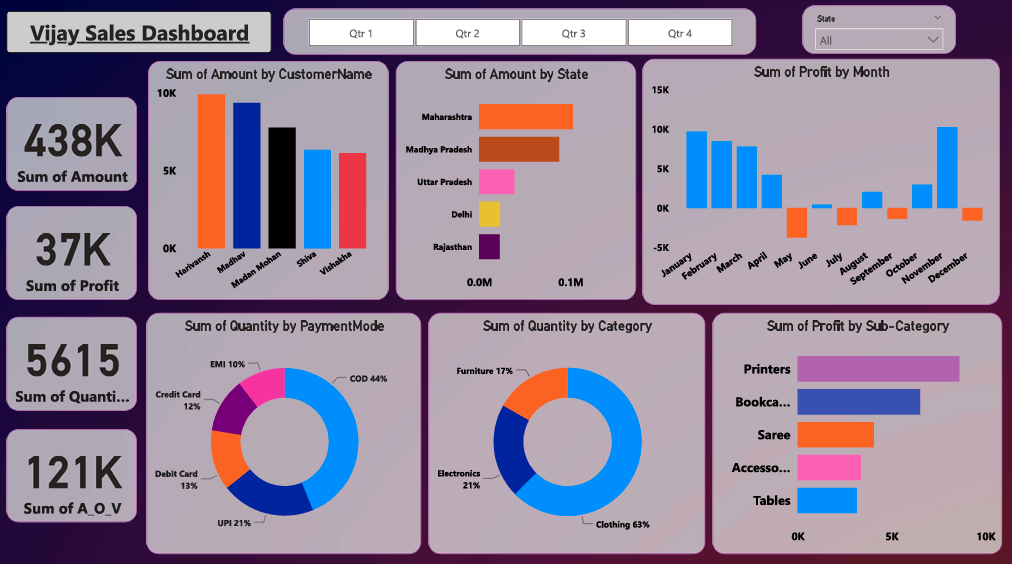

What the dashboard file says about the page in this screenshot:
{"tool":"powerbi","page":{"name":"Page 1","canvas":[1280,720],"ordinal":0},"visuals":[{"type":"textbox","box":[12.8,14.2,333.1,52.4],"z":0},{"type":"clusteredColumnChart","fields":{"Category":["Orders.Order Date.Variation.Date Hierarchy.Month"],"Y":["Details.Profit"]},"box":[812.1,73.7,449.3,309],"z":1000},{"type":"barChart","fields":{"Category":["Details.Sub-Category"],"Y":["Details.Profit"]},"box":[900,392.6,364.3,303.3],"z":2000},{"type":"donutChart","fields":{"Category":["Details.Category"],"Y":["Details.Quantity"]},"box":[542.8,392.6,348.7,303.3],"z":3000},{"type":"donutChart","fields":{"Category":["Details.PaymentMode"],"Y":["Details.Quantity"]},"box":[188.5,392.6,345.8,303.3],"z":4000},{"type":"barChart","fields":{"Category":["Orders.State"],"Y":["Details.Amount"]},"box":[501.6,77.2,302,300.3],"z":5000},{"type":"clusteredColumnChart","fields":{"Category":["Orders.CustomerName"],"Y":["Details.Amount"]},"box":[191.2,77.2,302,300.3],"z":6000},{"type":"card","fields":{"Values":["Details.Amount"]},"box":[12.8,121.9,164.4,117.6],"z":7000},{"type":"card","fields":{"Values":["Details.Profit"]},"box":[12.8,259.4,164.4,117.6],"z":8000},{"type":"card","fields":{"Values":["Details.Quantity"]},"box":[12.8,398.3,164.4,117.6],"z":9000},{"type":"card","fields":{"Values":["Details.AVERAGE_ORDER_VALUE"]},"box":[12.8,538.6,164.4,117.6],"z":10000},{"type":"slicer","fields":{"Values":["Orders.Order Date.Variation.Date Hierarchy.Quarter"]},"box":[361.4,11.3,593.9,58.1],"z":11000},{"type":"slicer","fields":{"Values":["Orders.State"]},"box":[1013.4,7.1,192.8,60.9],"z":12000}]}

Visuals, with their boxes in screenshot pixels (x1, y1, x2, y2), scaled from the page's 1280x720 canvas onto the 1012x564 screenshot:
textbox: 10 11 273 52
clusteredColumnChart - Orders.Order Date.Variation.Date Hierarchy.Month x Details.Profit: 642 58 997 300
barChart - Details.Sub-Category x Details.Profit: 712 308 1000 545
donutChart - Details.Category x Details.Quantity: 429 308 705 545
donutChart - Details.PaymentMode x Details.Quantity: 149 308 422 545
barChart - Orders.State x Details.Amount: 397 60 635 296
clusteredColumnChart - Orders.CustomerName x Details.Amount: 151 60 390 296
card - Details.Amount: 10 95 140 188
card - Details.Profit: 10 203 140 295
card - Details.Quantity: 10 312 140 404
card - Details.AVERAGE_ORDER_VALUE: 10 422 140 514
slicer - Orders.Order Date.Variation.Date Hierarchy.Quarter: 286 9 755 54
slicer - Orders.State: 801 6 954 53
